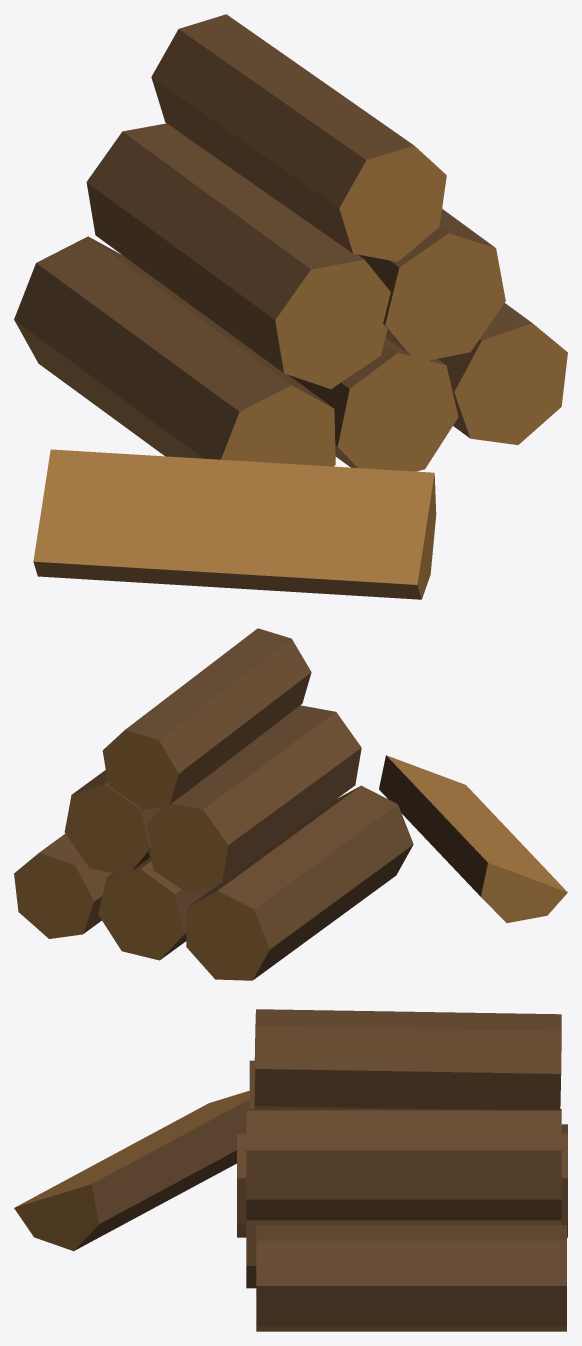
The model's file is nature_logs.fbx.
3 renders of one model, top to bottom at view 1: azimuth 30°, elevation 25°; view 2: azimuth 150°, elevation 25°; view 3: azimuth 270°, elevation 25°, orthographic. The views are drawn at different scales.
Parts seen in each view (by area): view 1: nature_logs; view 2: nature_logs; view 3: nature_logs.
Part boxes in pixels (x1=…): nature_logs: x1=14, y1=14, x2=567, y2=599; nature_logs: x1=14, y1=628, x2=567, y2=980; nature_logs: x1=14, y1=1009, x2=567, y2=1331.
Bounding box in the file's own units: 191 × 105 × 200.
